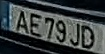7: (43, 16, 55, 40)
9: (54, 18, 67, 43)
A: (14, 9, 30, 35)
D: (80, 23, 95, 50)
E: (29, 11, 42, 38)
J: (68, 22, 80, 47)
